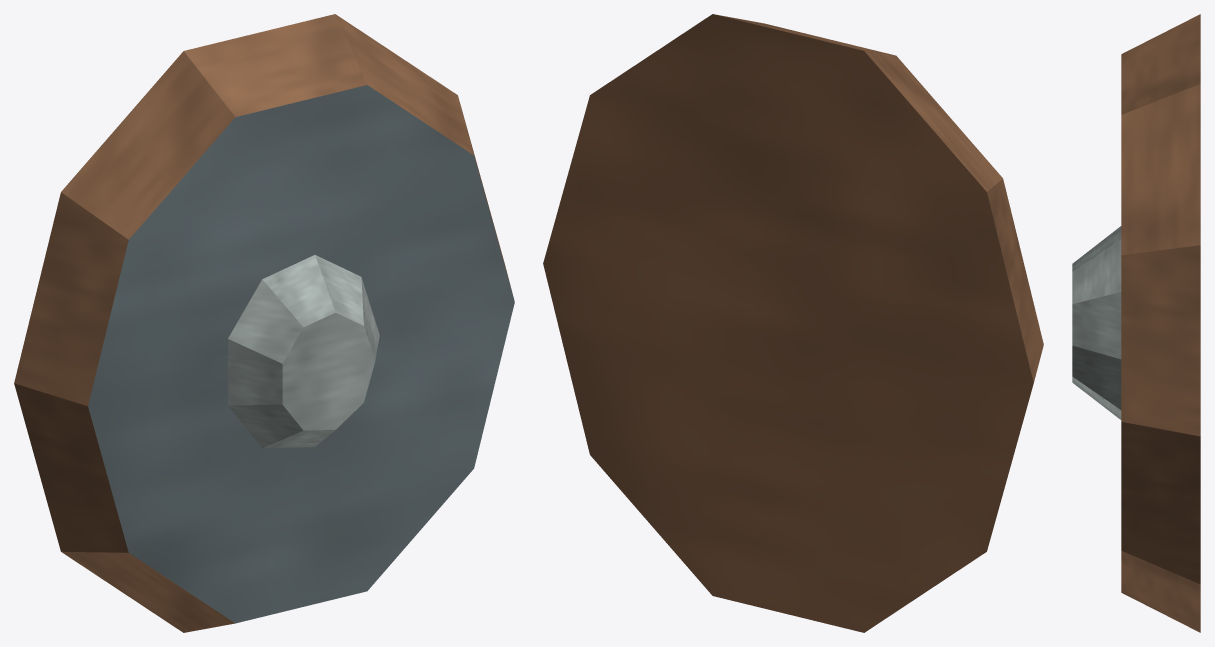
File: shield_old.fbx
The picture shows the model from 3 angles, left to right: view 1: azimuth 30°, elevation 25°; view 2: azimuth 150°, elevation 25°; view 3: azimuth 270°, elevation 25°; orthographic projection. The views are drawn at different scales.
Visible parts, largest first — view 1: shield_old; view 2: shield_old; view 3: shield_old.
Boxes of the visible parts, x1,y1,x2,y2 form: shield_old: (14,14,514,632); shield_old: (543,14,1043,632); shield_old: (1072,14,1200,632).
Bounding box in the file's own units: 75 × 85 × 18.
Materials: 1 (1 with a texture image).
